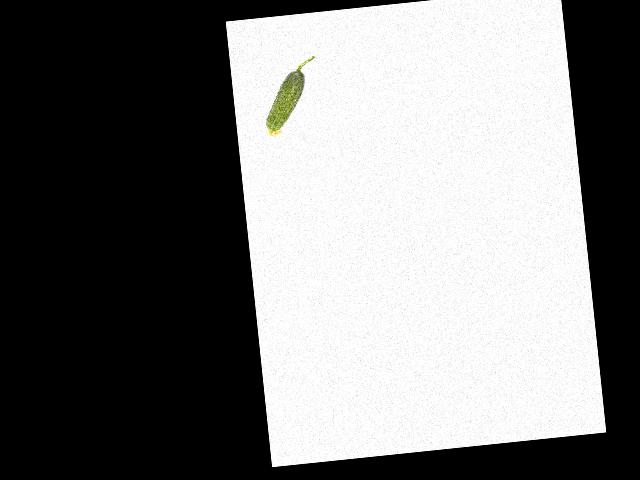cucumber: (258, 56, 322, 138)
